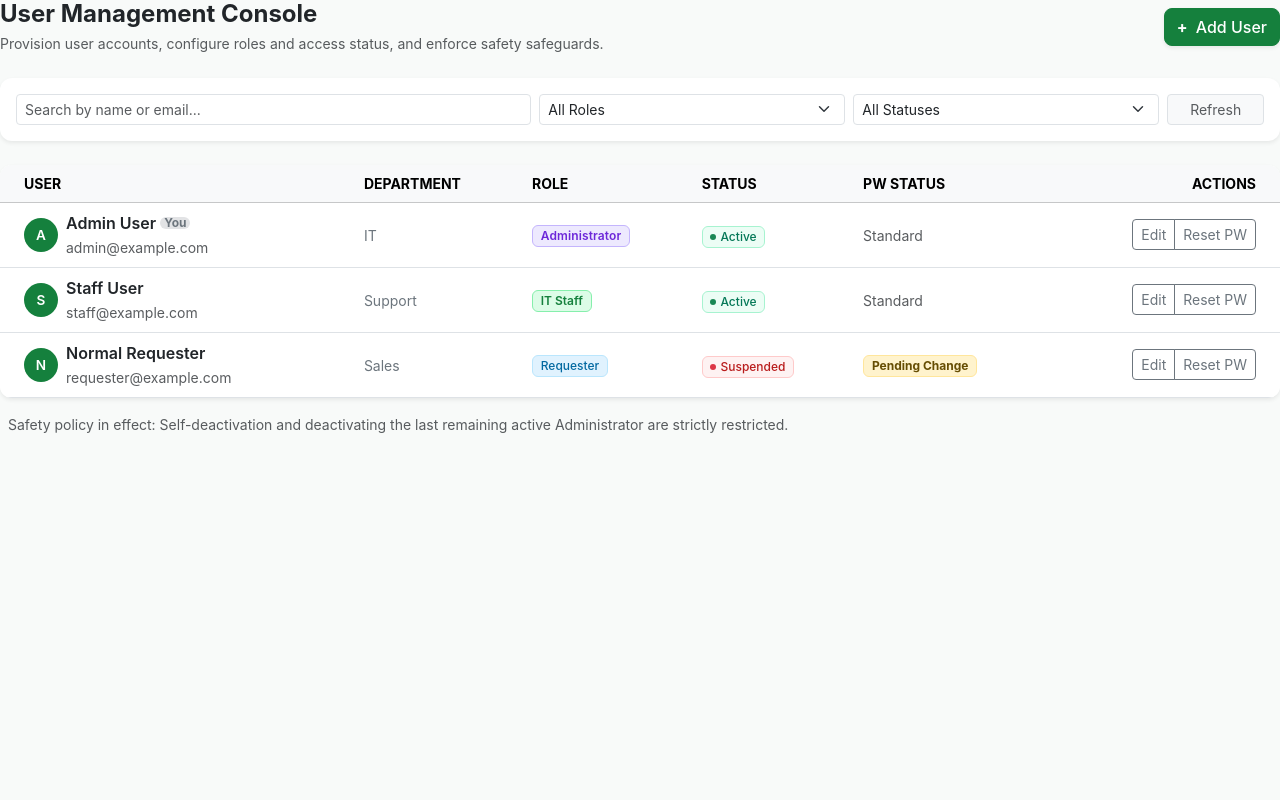
Scenario: Lab 3 — Administrator User Management Screen (Issue #8 / #45) › Password Reset (FR-15) › opens reset password modal and resets initial password
Click the button with test id "reset-password-btn-3".
click(1215, 365)  # box [1174, 349, 1256, 380]
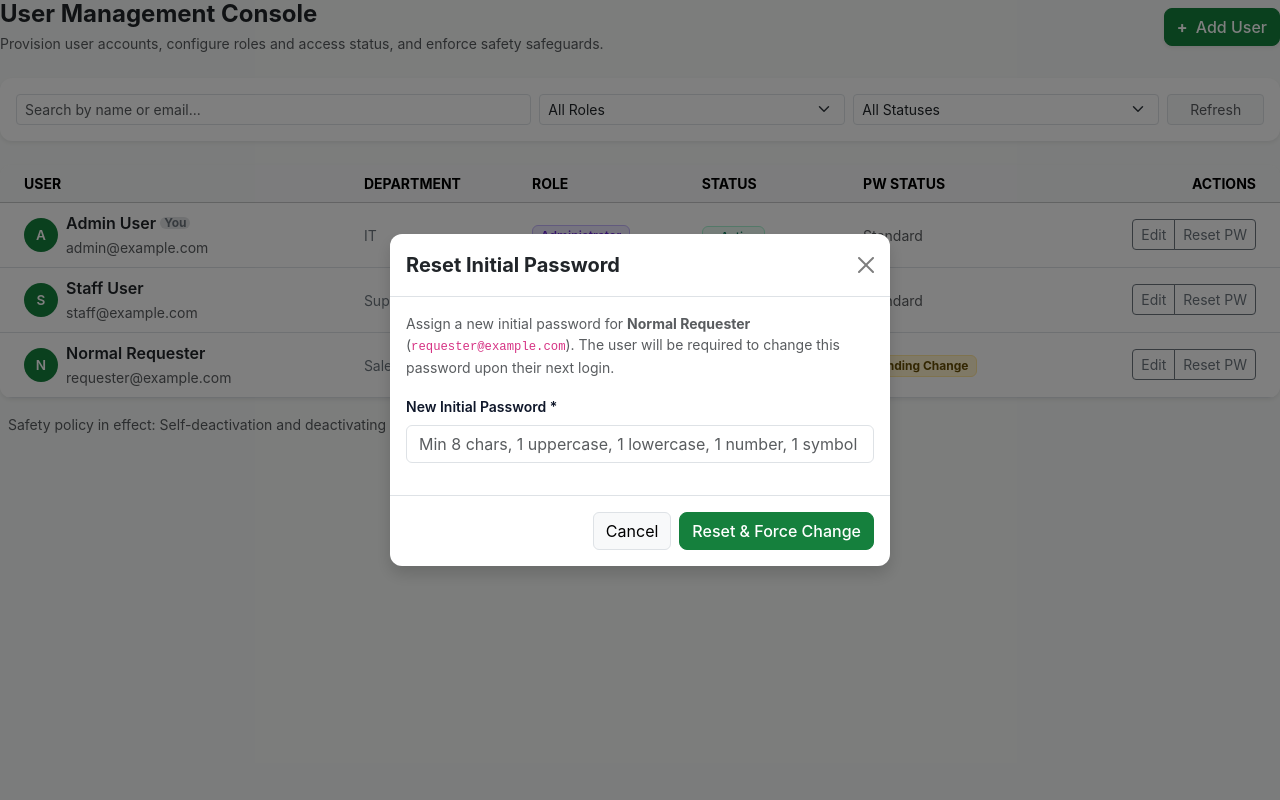
Now the element with test id "reset-password-modal" is shown
Type "NewResetPW123!" into the password field with test id "reset-password-input".
click(640, 444); type("NewResetPW123!")  # box [406, 425, 874, 463]
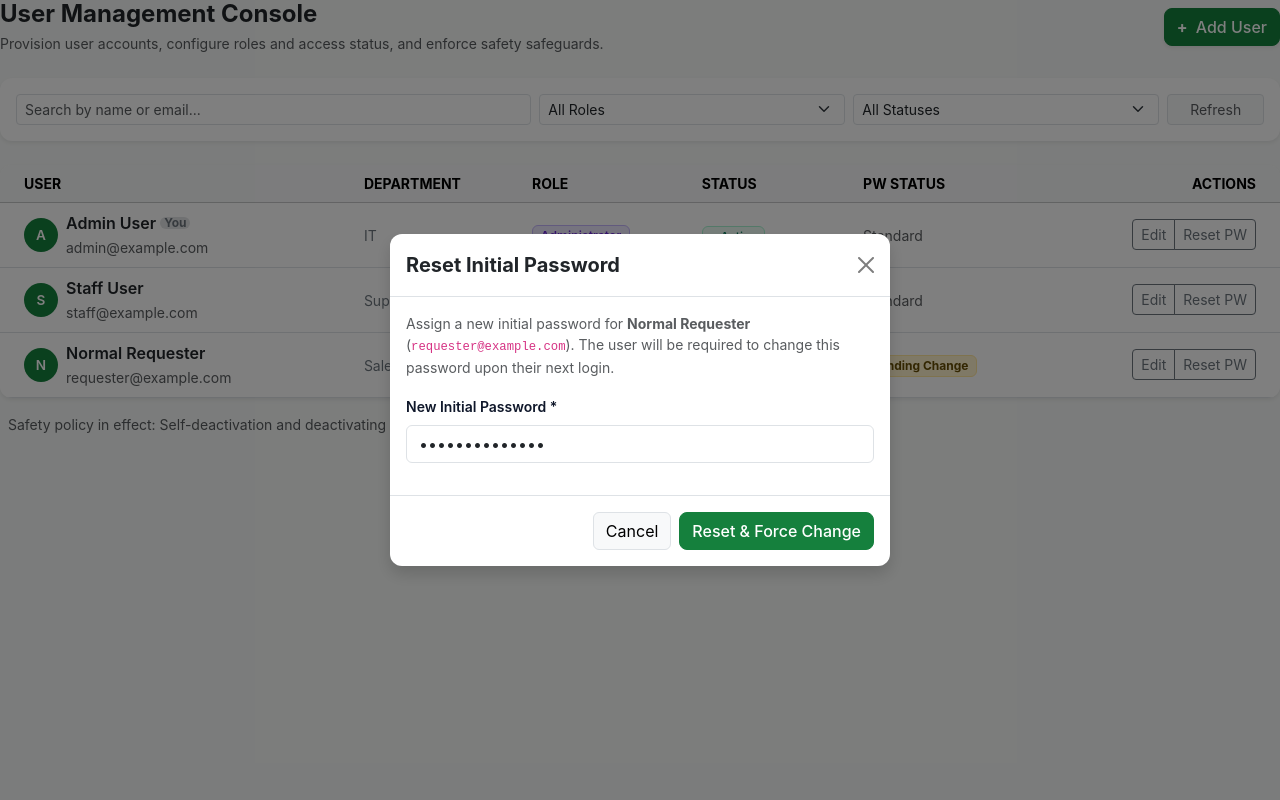
Click the button with test id "submit-reset-password-btn".
click(777, 531)  # box [679, 512, 874, 550]
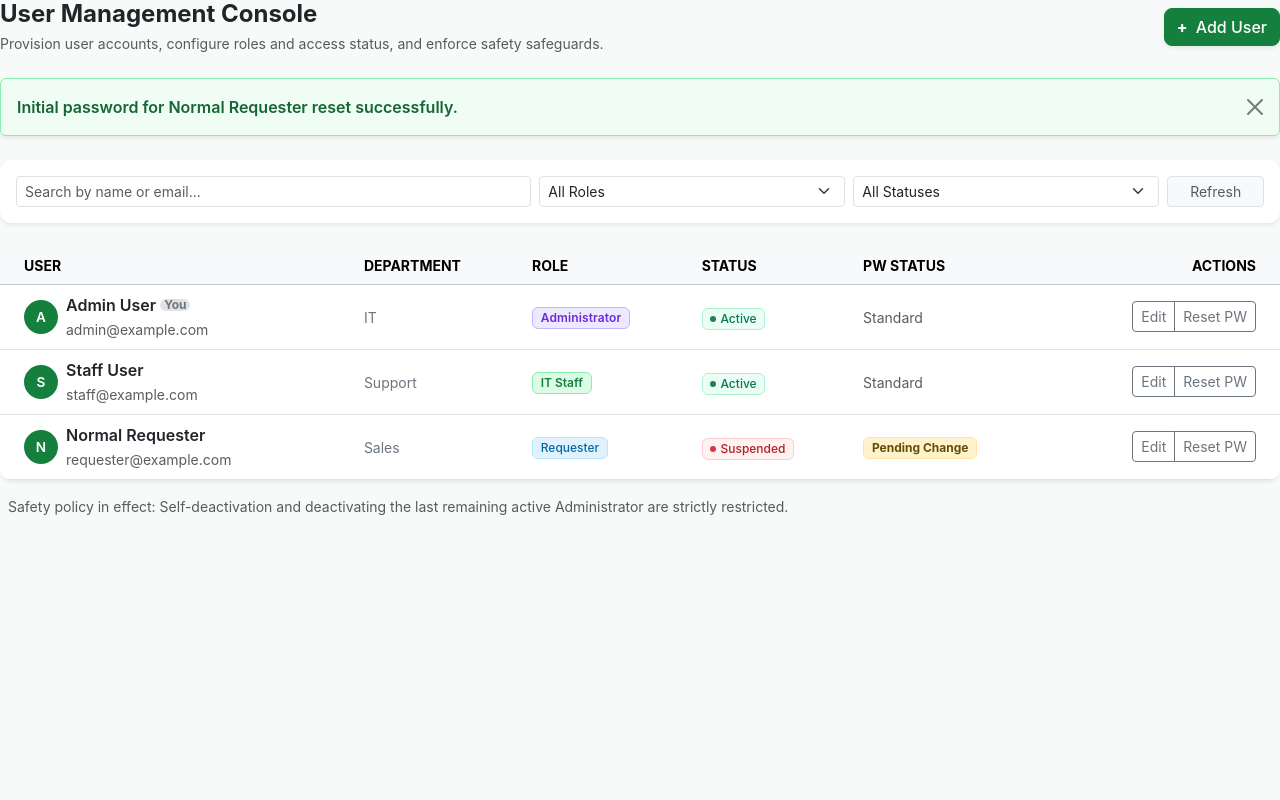
Now the element with test id "reset-password-modal" is gone
